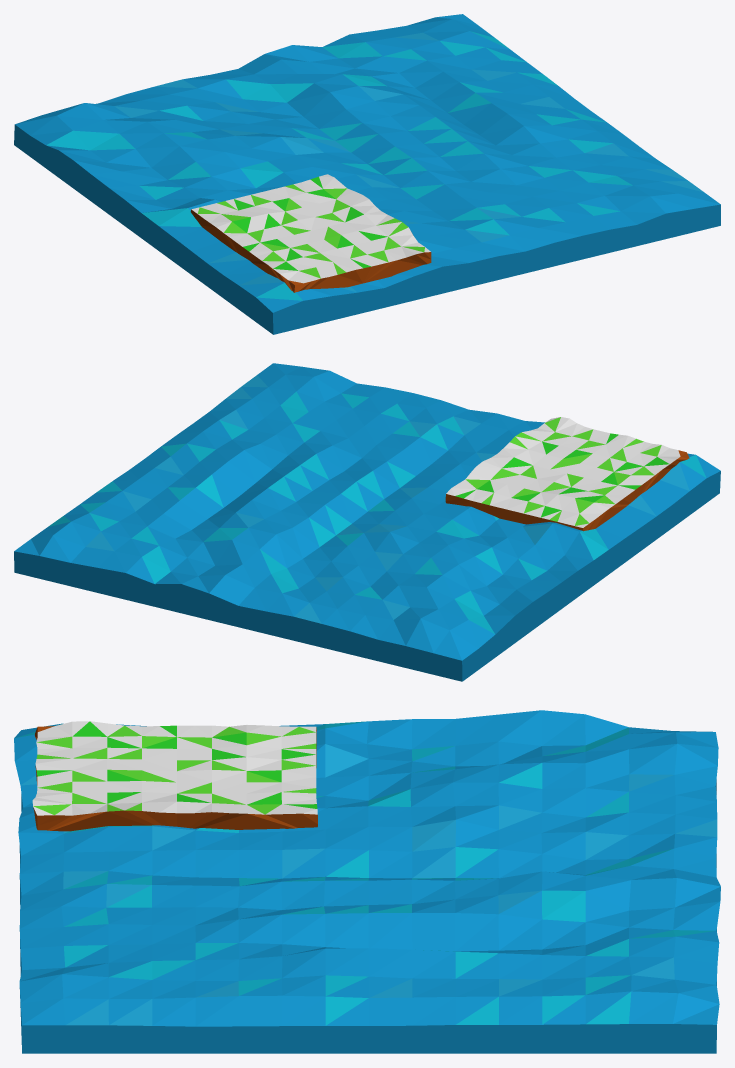
The picture shows the model from 3 angles, top to bottom: view 1: azimuth 30°, elevation 25°; view 2: azimuth 150°, elevation 25°; view 3: azimuth 270°, elevation 25°; orthographic projection. The views are drawn at different scales.
Parts seen in each view (by area): view 1: Plane, Plane.001; view 2: Plane, Plane.001; view 3: Plane, Plane.001.
Part boxes in pixels (left/top/right/bottom): Plane: left=14, top=14, right=720, bottom=334; Plane.001: left=190, top=174, right=431, bottom=292; Plane: left=14, top=363, right=720, bottom=681; Plane.001: left=445, top=417, right=689, bottom=531; Plane: left=14, top=710, right=720, bottom=1053; Plane.001: left=32, top=721, right=317, bottom=831.
Bounding box in the file's own units: 1942 × 181 × 1948.
